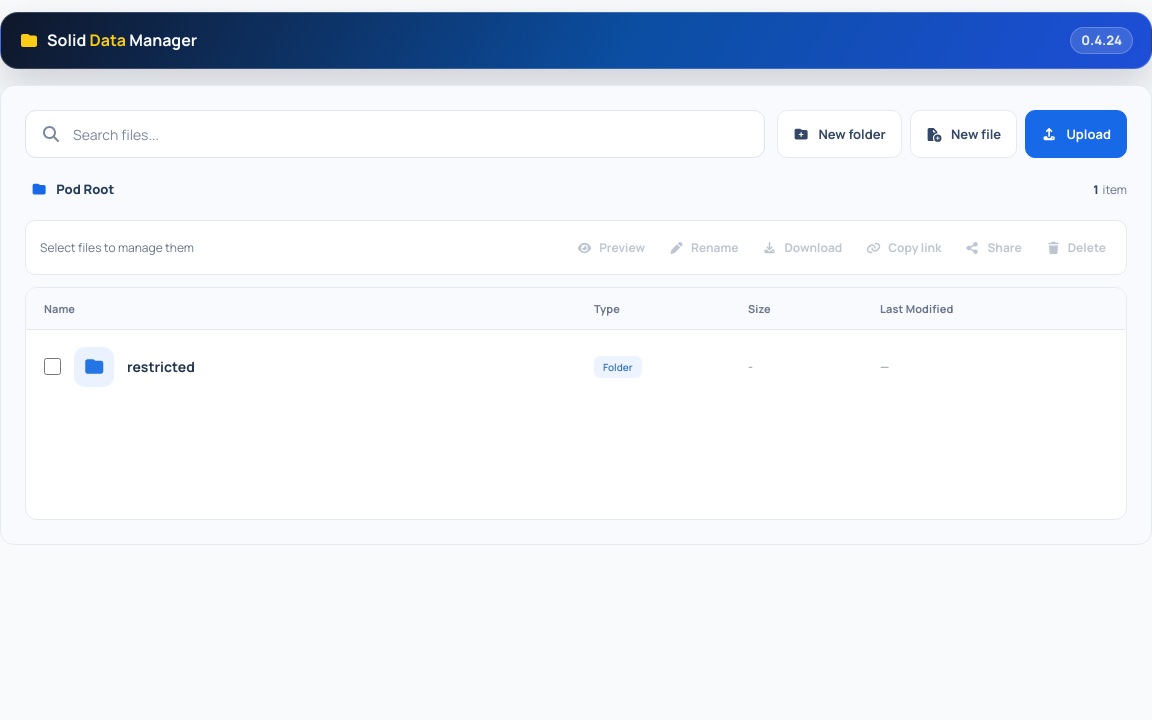
does not delete a container when its contents cannot be read
Click the text "restricted" at {"x": 576, "y": 367}, box [26,330,1126,404]
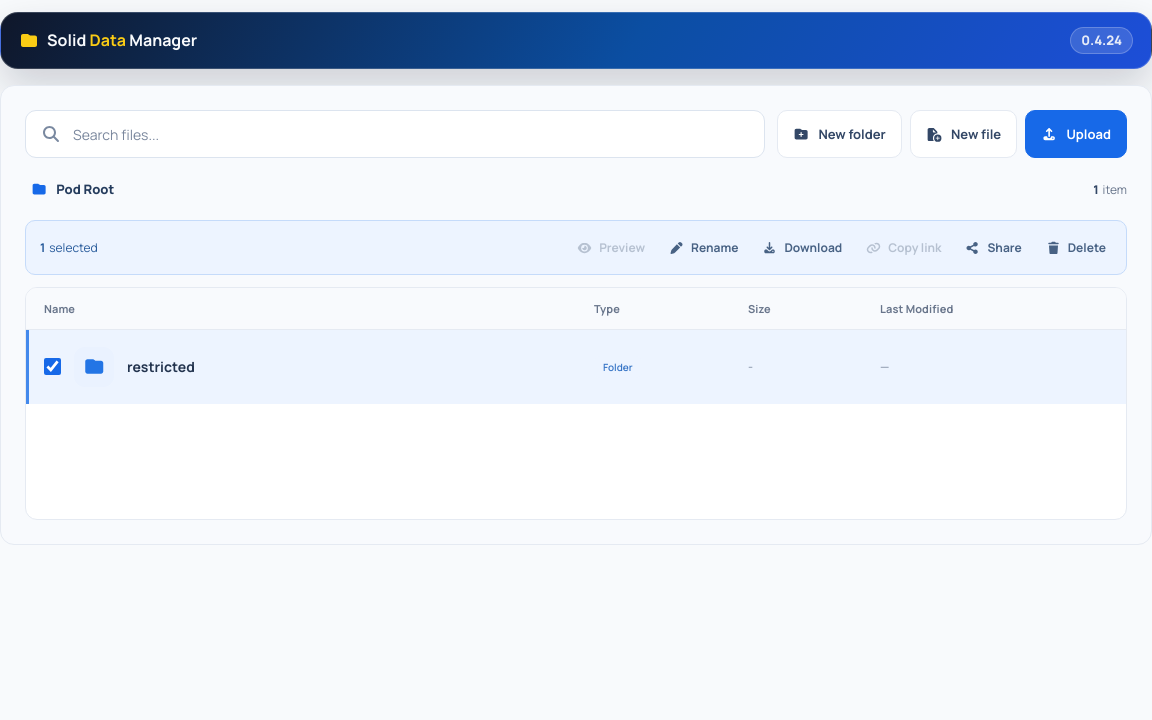
Click the button titled "Delete" at {"x": 1076, "y": 248}, box [1036,228,1116,268]
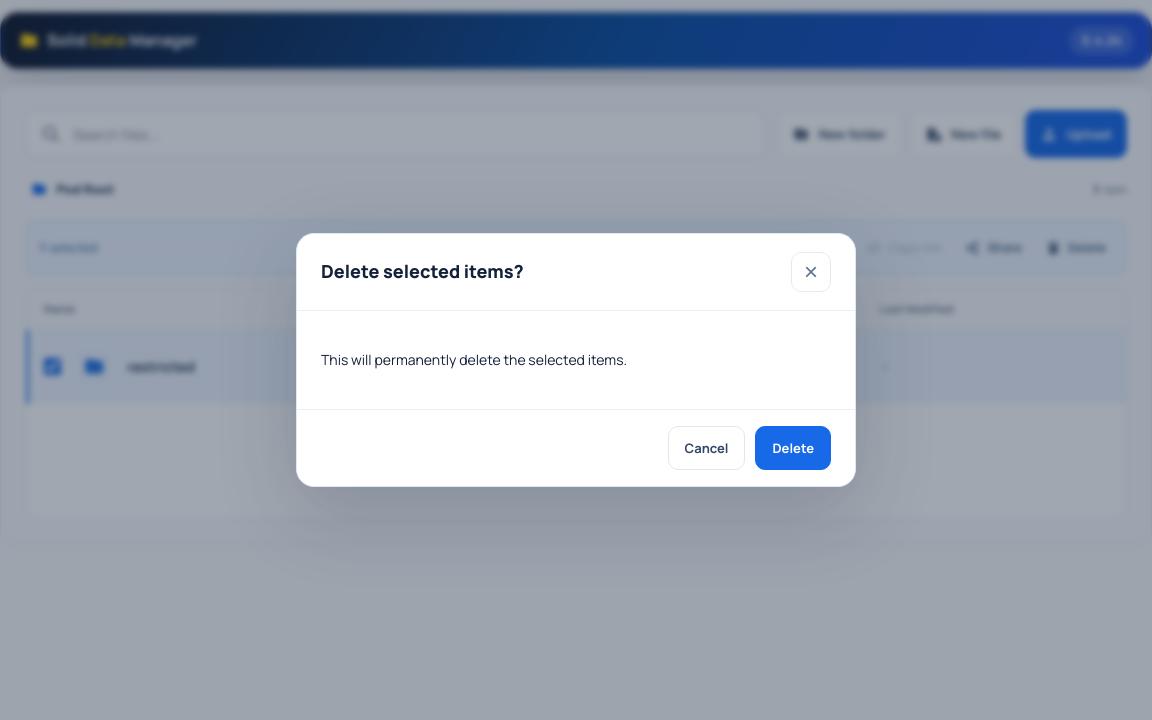
Click the button "Delete" at {"x": 793, "y": 448}, box [756,426,831,470]
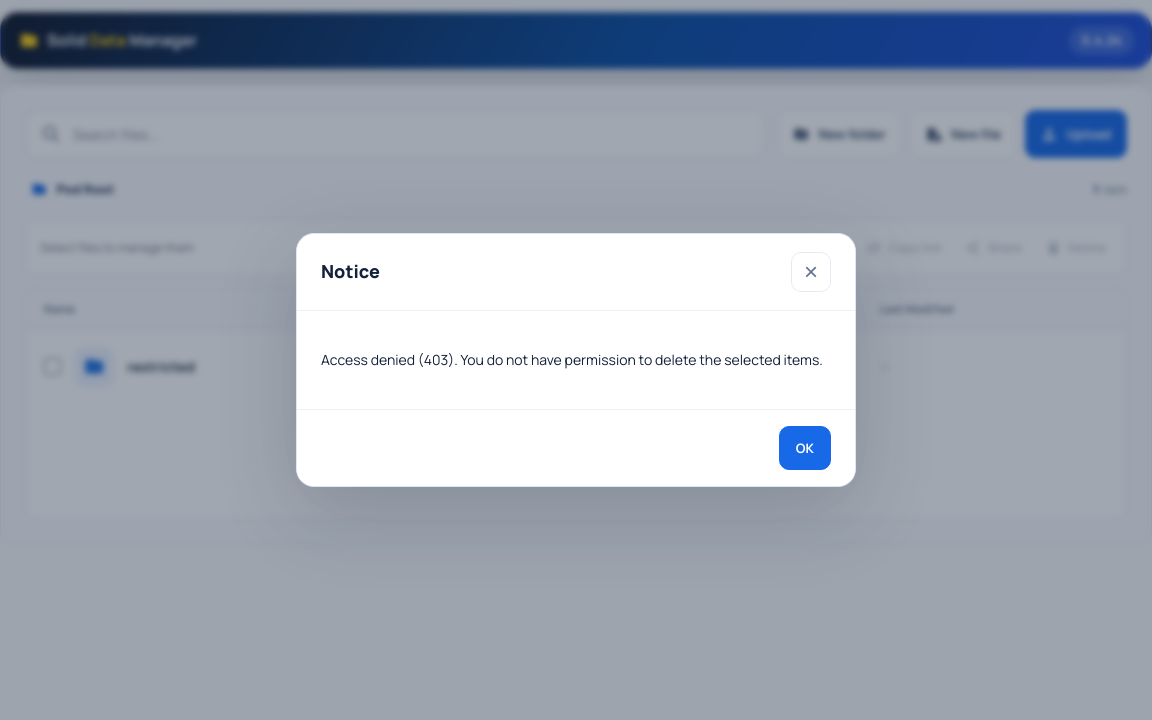
Result: the text "Access denied (403). You do not have permission to delete the selected items." is shown at [321,349,831,371]
